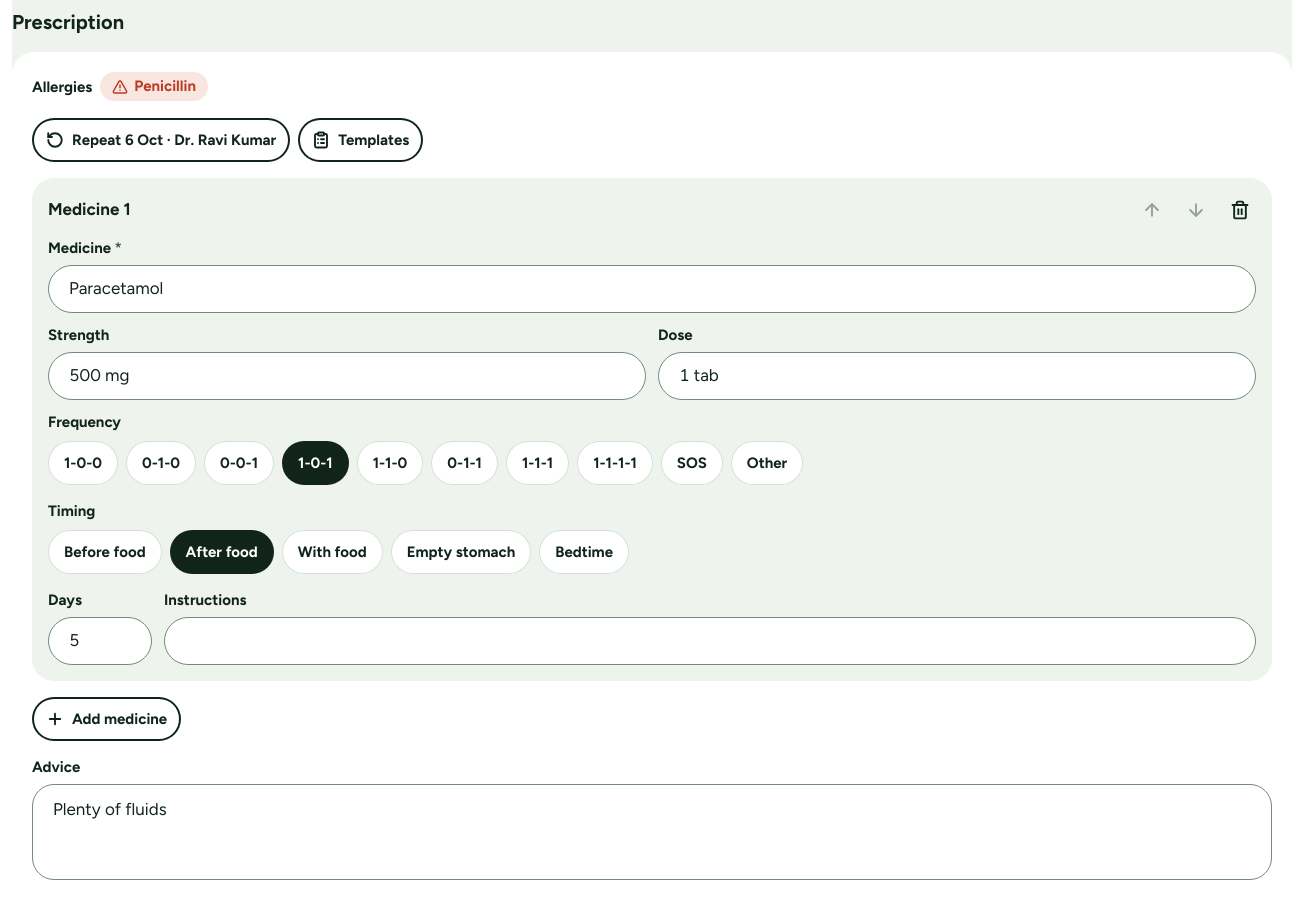
PrescriptionSection's Repeat and templates (D236 – D241) › leaves the advice as it is when theirs is already there
The image size is (1292, 900).
Step 1. Click the button "Repeat 6 Oct · Dr. Ravi Kumar" → (161, 140), box [32, 118, 290, 162]
(page scrolled)
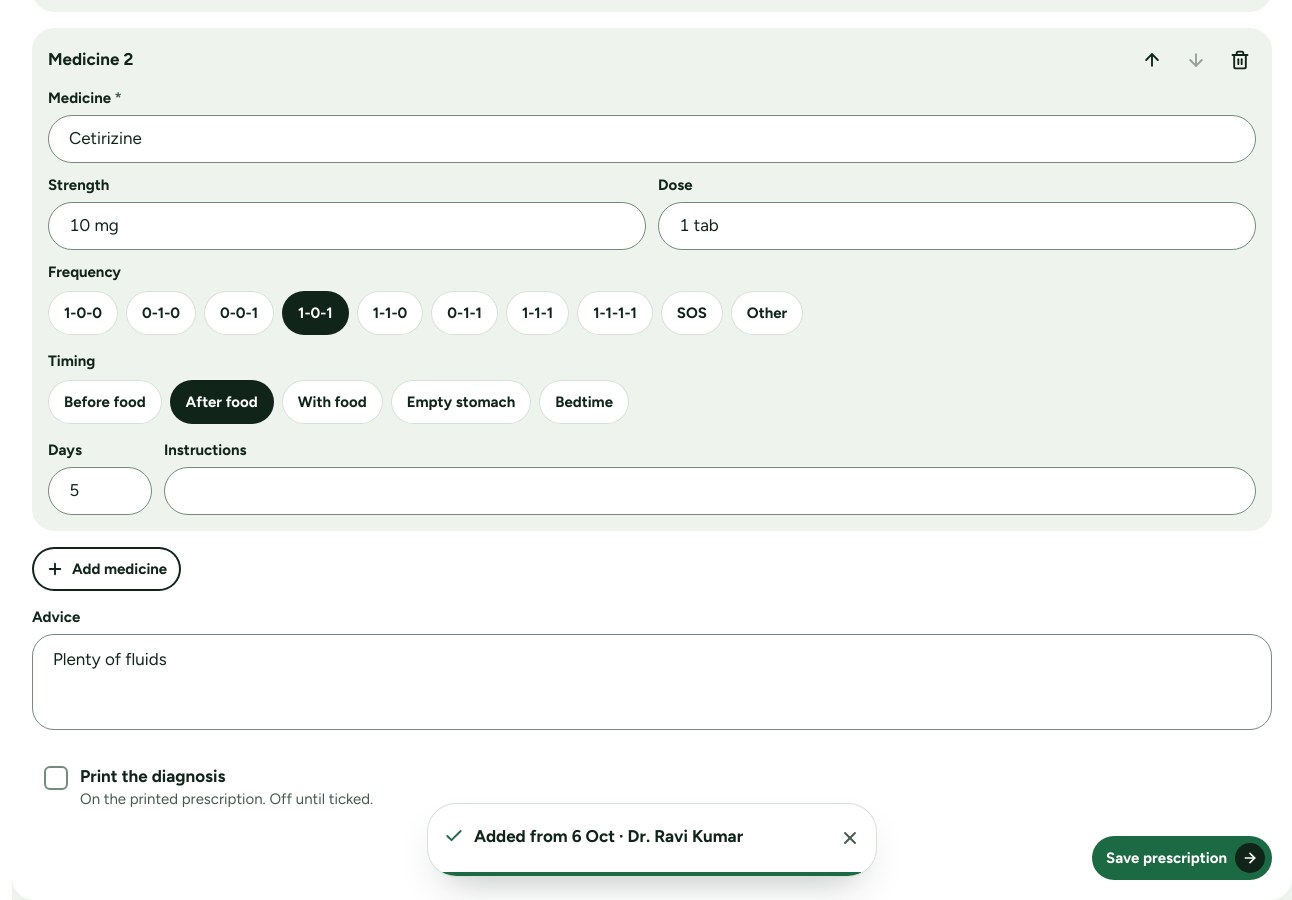
expect the text box labelled "Advice" holds "Plenty of fluids": met, box [32, 634, 1272, 730]
expect the dropdown labelled "Medicine" holds "Cetirizine": met, box [48, 115, 1256, 163]
